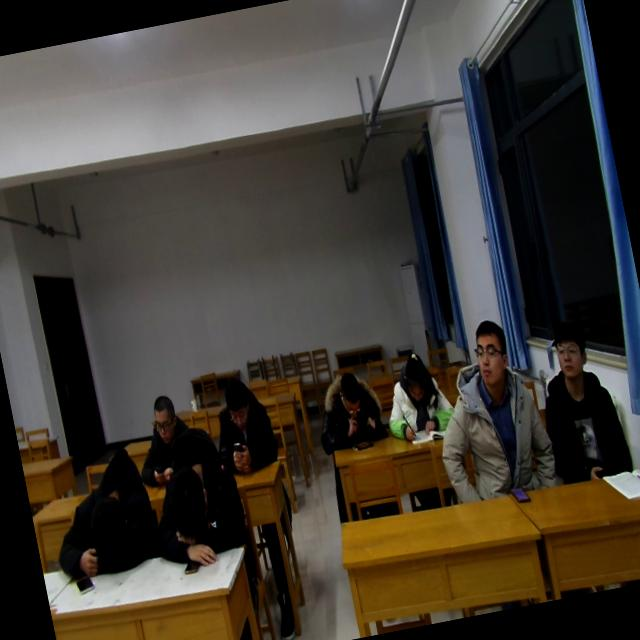bow: (39, 443, 164, 577), (144, 432, 254, 574)
down: (216, 373, 258, 435), (146, 388, 184, 449), (396, 346, 434, 407), (331, 365, 370, 424)
lookup: (466, 314, 518, 398), (544, 312, 592, 386)
sit: (418, 310, 558, 501), (524, 308, 633, 489), (206, 367, 284, 482), (374, 342, 457, 447), (305, 364, 389, 456), (126, 388, 205, 480)
